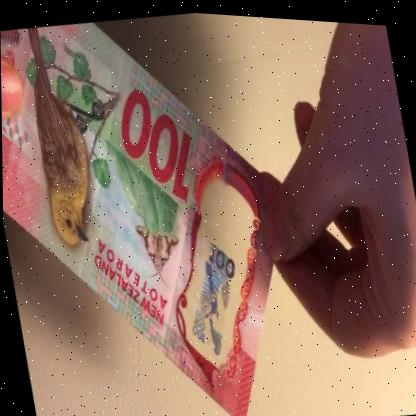100B: (174, 230, 254, 362)
